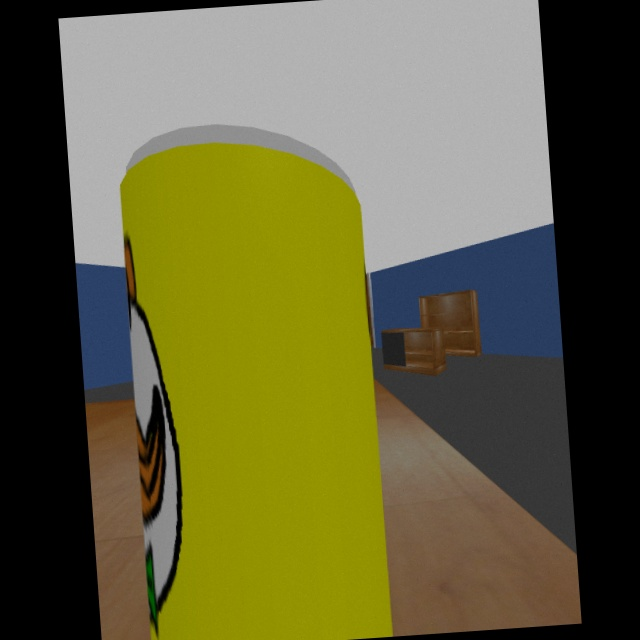chipsdose_gelb: (120, 124, 393, 640)
